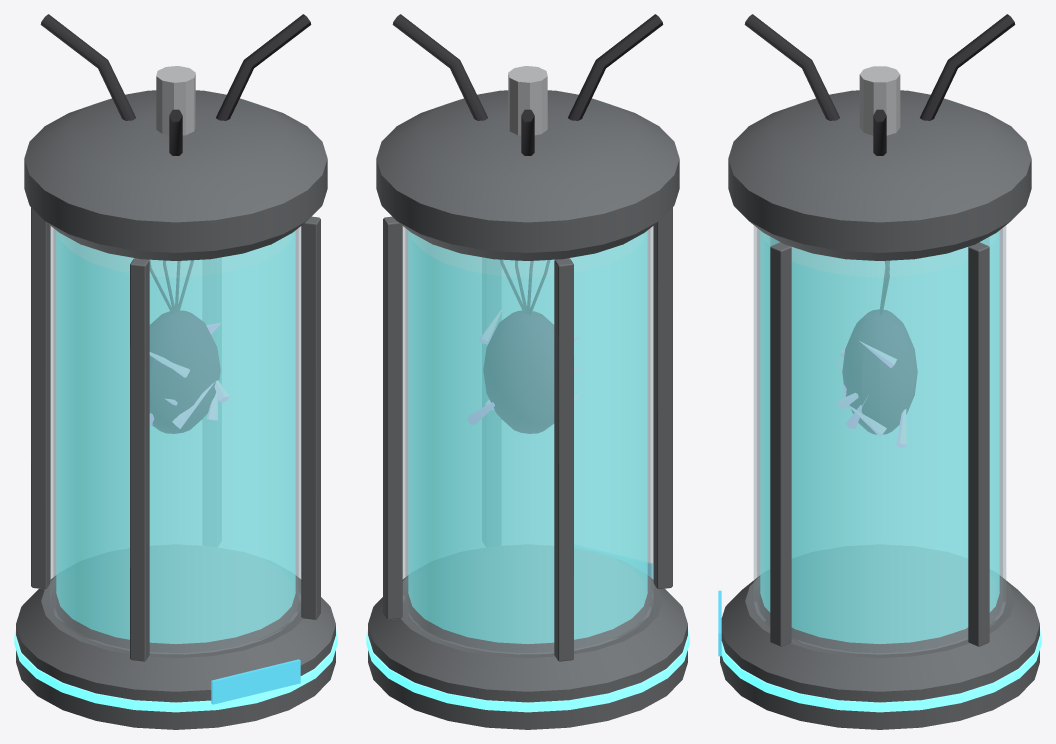
Rendered from containment_tube.glb.
3 renders of one model, left to right at view 1: azimuth 30°, elevation 25°; view 2: azimuth 150°, elevation 25°; view 3: azimuth 270°, elevation 25°, orthographic.
Parts seen in each view (by area): view 1: containment_tube; view 2: containment_tube; view 3: containment_tube.
Boxes of the visible parts, left/top/right/bottom form: containment_tube: left=14, top=14, right=337, bottom=729; containment_tube: left=366, top=14, right=689, bottom=729; containment_tube: left=718, top=14, right=1041, bottom=729.
Bounding box in the file's own units: 1.92 × 4.03 × 1.92.
